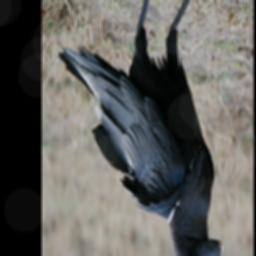Crow: (59, 0, 225, 256)
